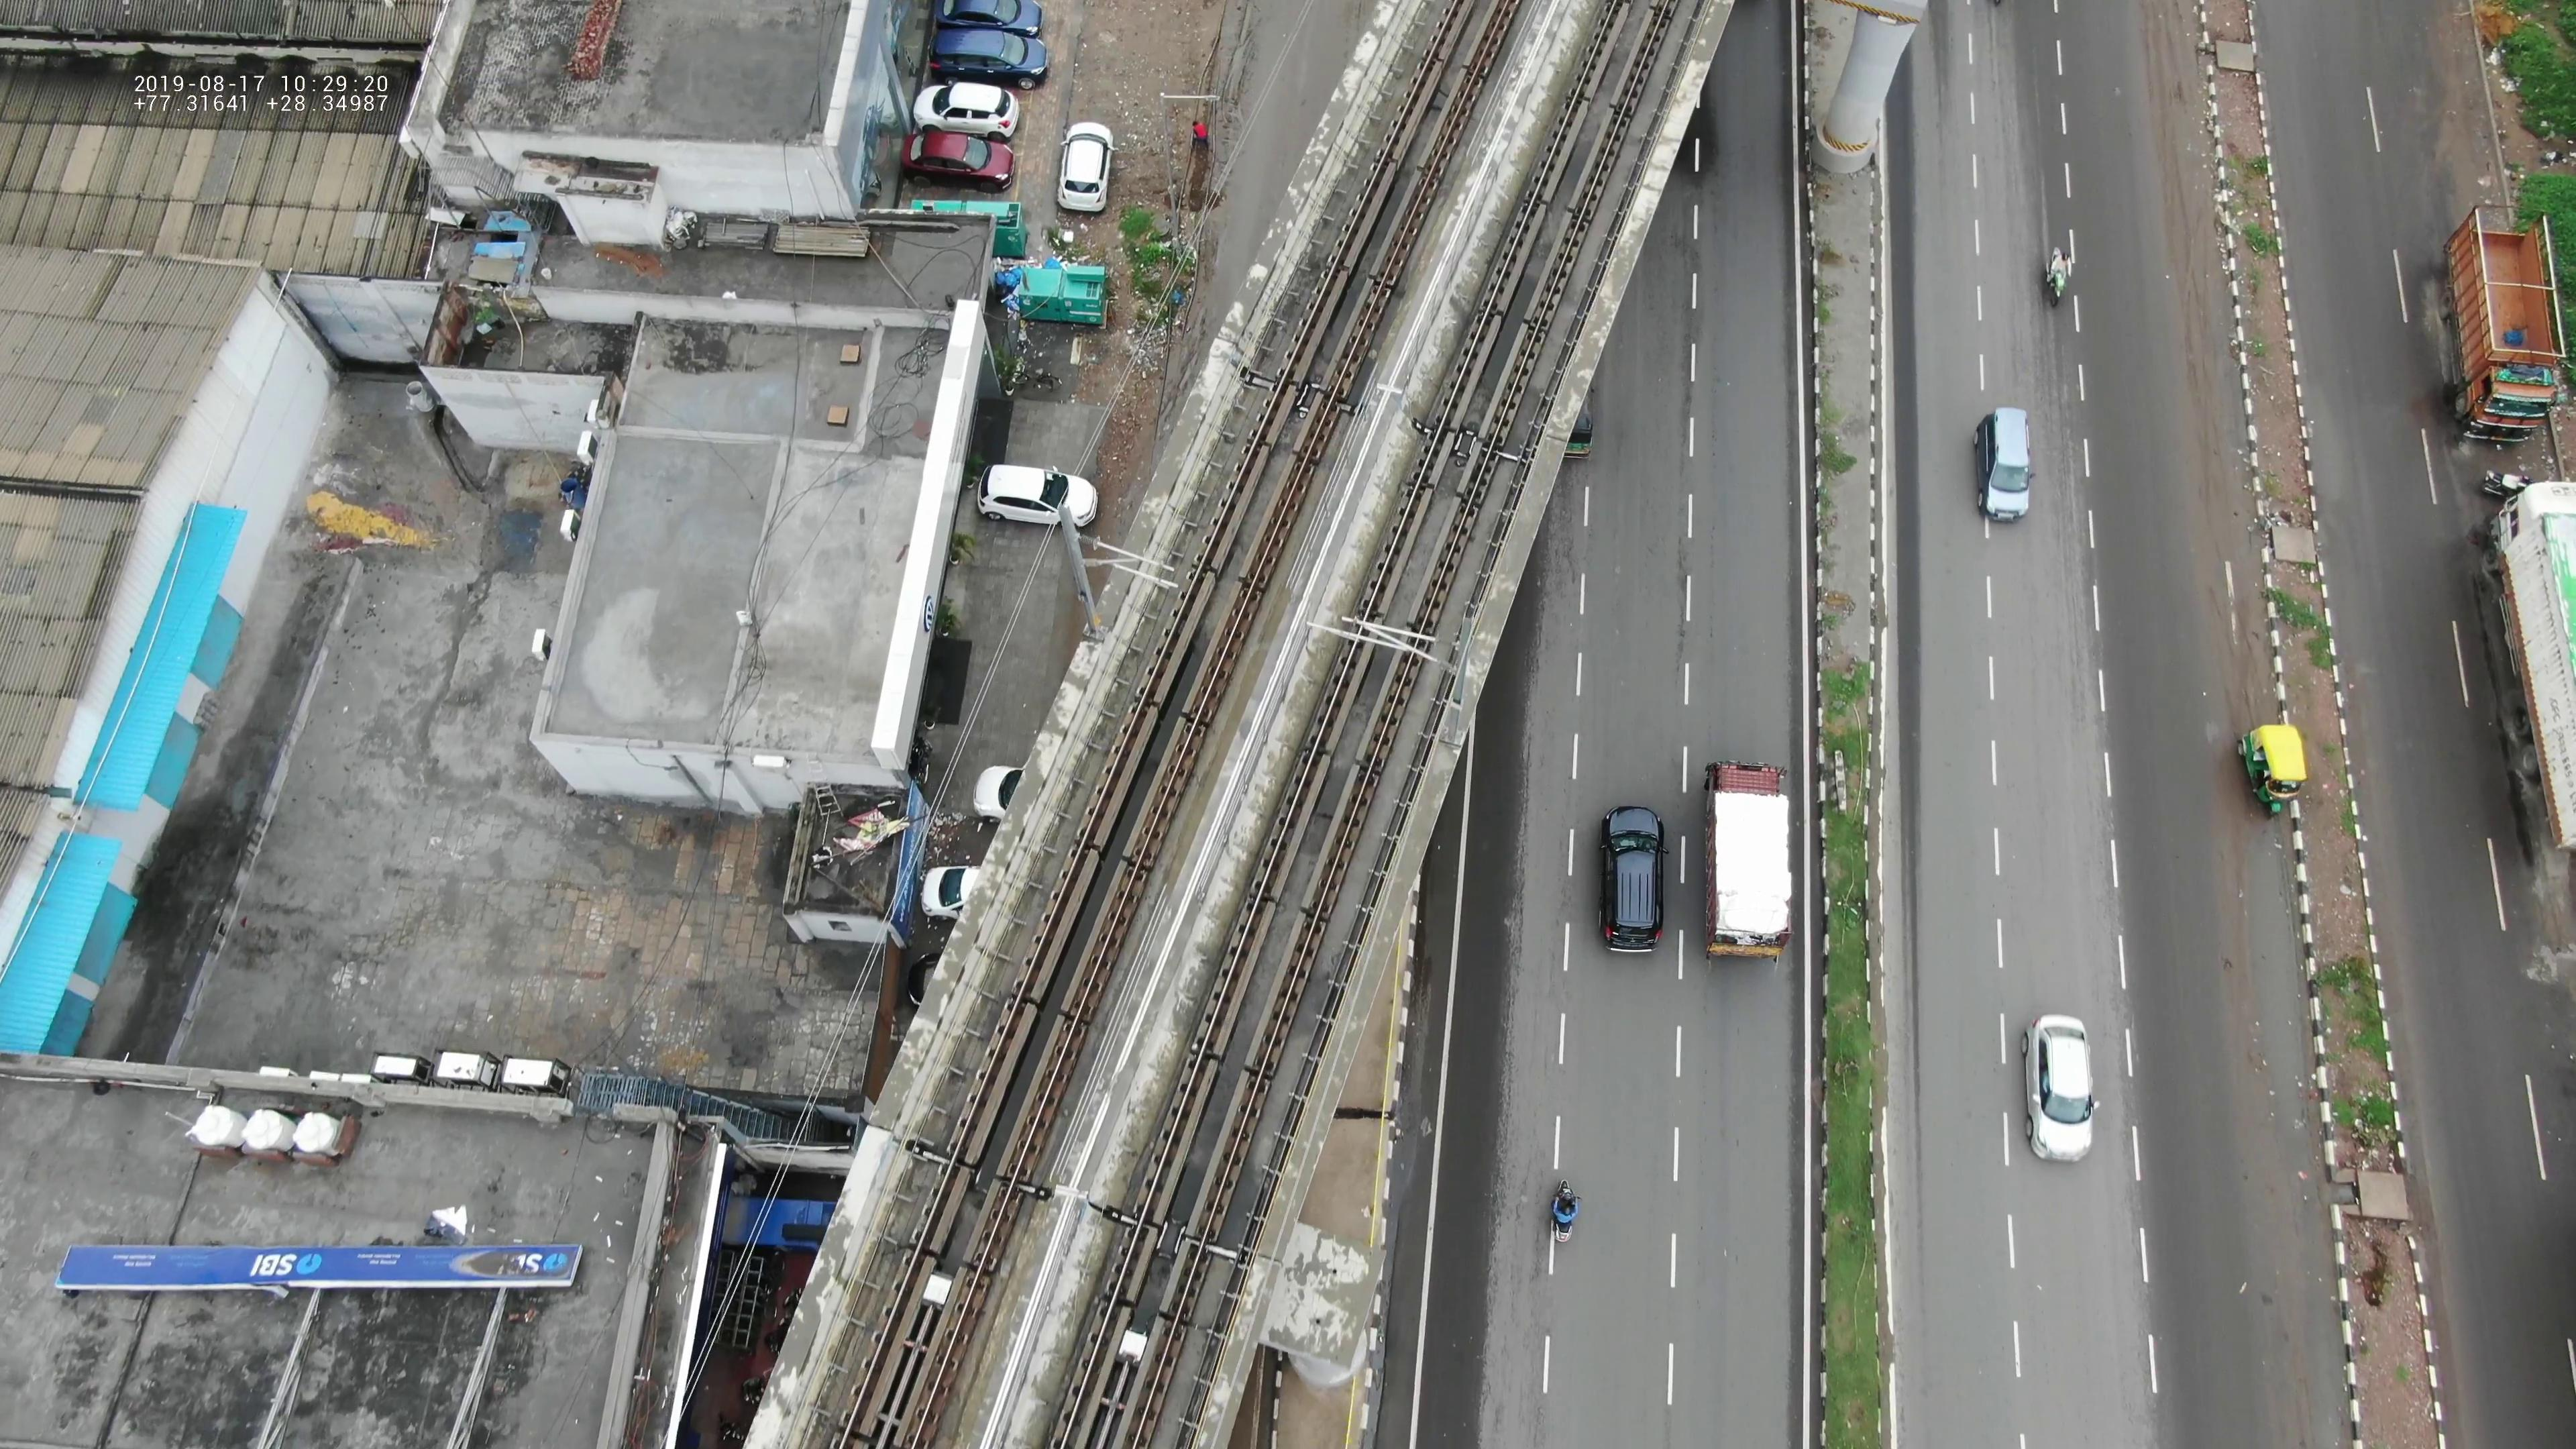Muddy_road: (2171, 359, 2261, 702), (2143, 50, 2231, 352)
Potholes: (2525, 925, 2565, 996)
Ravelling: (1668, 384, 1700, 674)
Waterlogging: (2229, 824, 2311, 1138)
